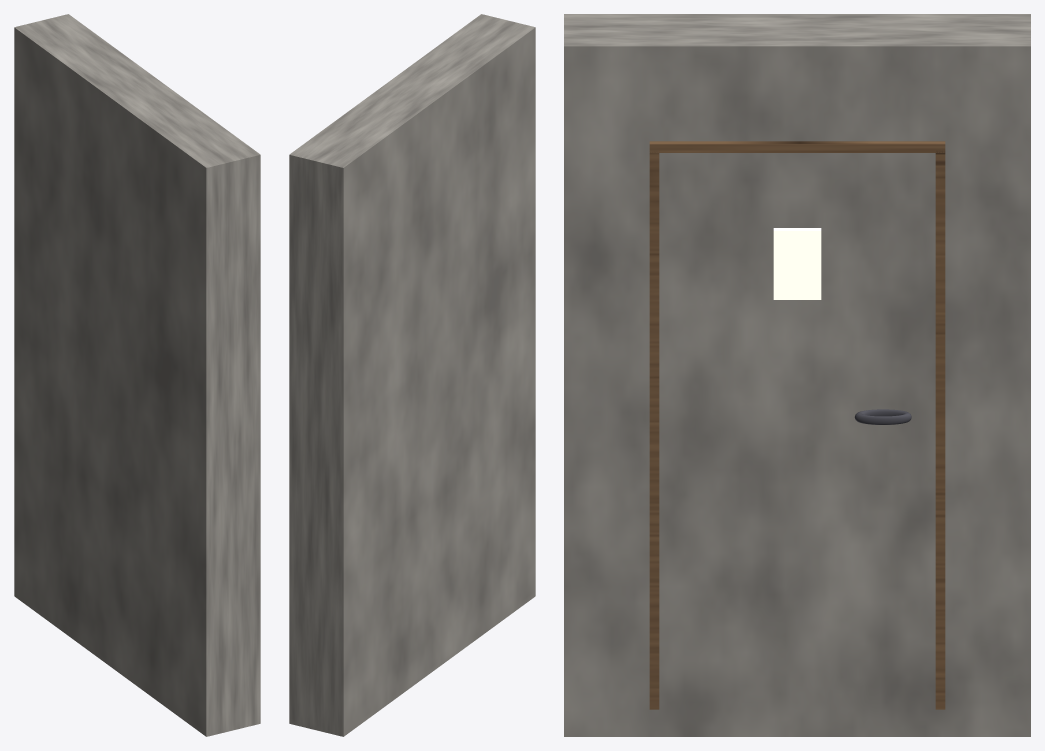
Rendered from secretDoor.glb.
The picture shows the model from 3 angles, left to right: view 1: azimuth 30°, elevation 25°; view 2: azimuth 150°, elevation 25°; view 3: azimuth 270°, elevation 25°; orthographic projection. The views are drawn at different scales.
Visible parts, largest first — view 1: sd_wall; view 2: sd_wall; view 3: sd_wall, sd_seam_t, sd_rune, sd_ring.
Boxes of the visible parts, bbox=[...] form: sd_wall: bbox=[14, 14, 260, 736]; sd_wall: bbox=[289, 14, 535, 736]; sd_wall: bbox=[564, 14, 1030, 736]; sd_seam_t: bbox=[649, 141, 945, 709]; sd_rune: bbox=[773, 228, 821, 299]; sd_ring: bbox=[854, 409, 911, 424].
Size of the model in its own units: 0.201 by 1.6 by 0.98.
Materials: 4 (2 with a texture image).
